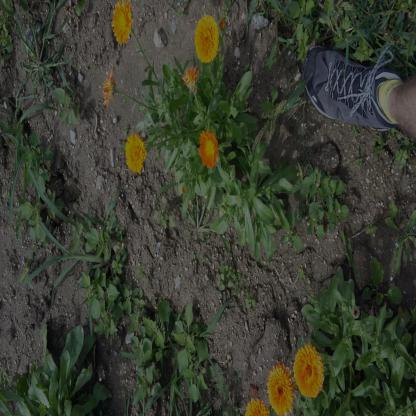marigold: (294, 346, 322, 398), (267, 365, 294, 414), (195, 16, 219, 61), (113, 2, 132, 44), (126, 134, 145, 172), (200, 130, 218, 168)
